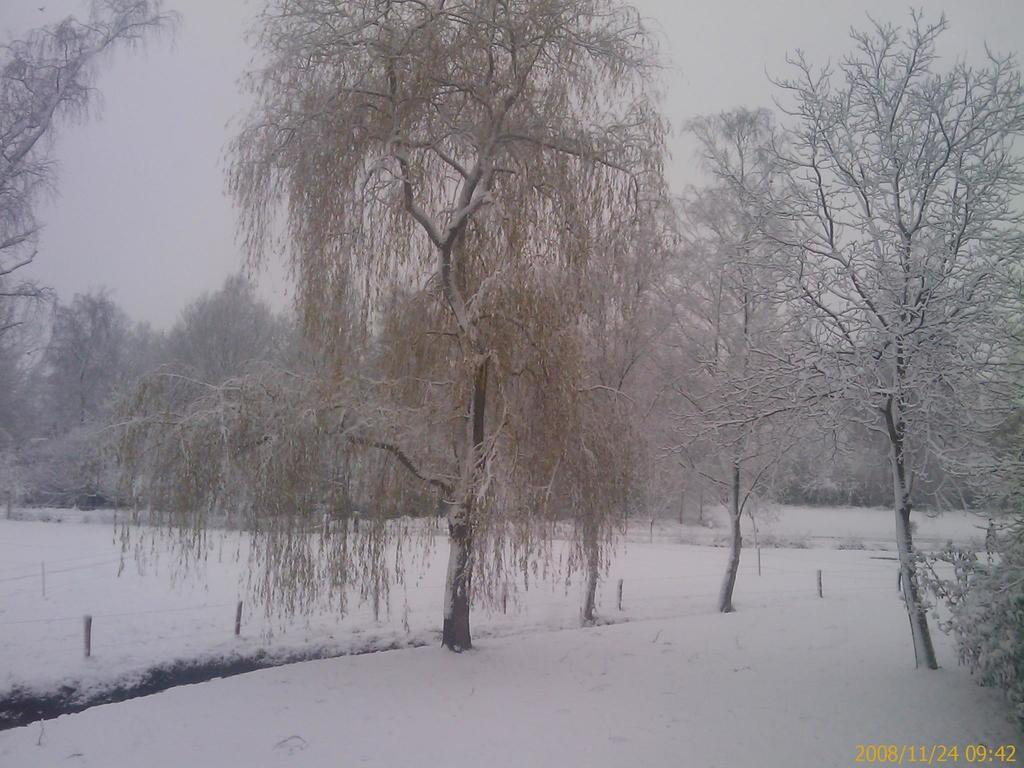Tree: (0, 0, 1023, 672)
